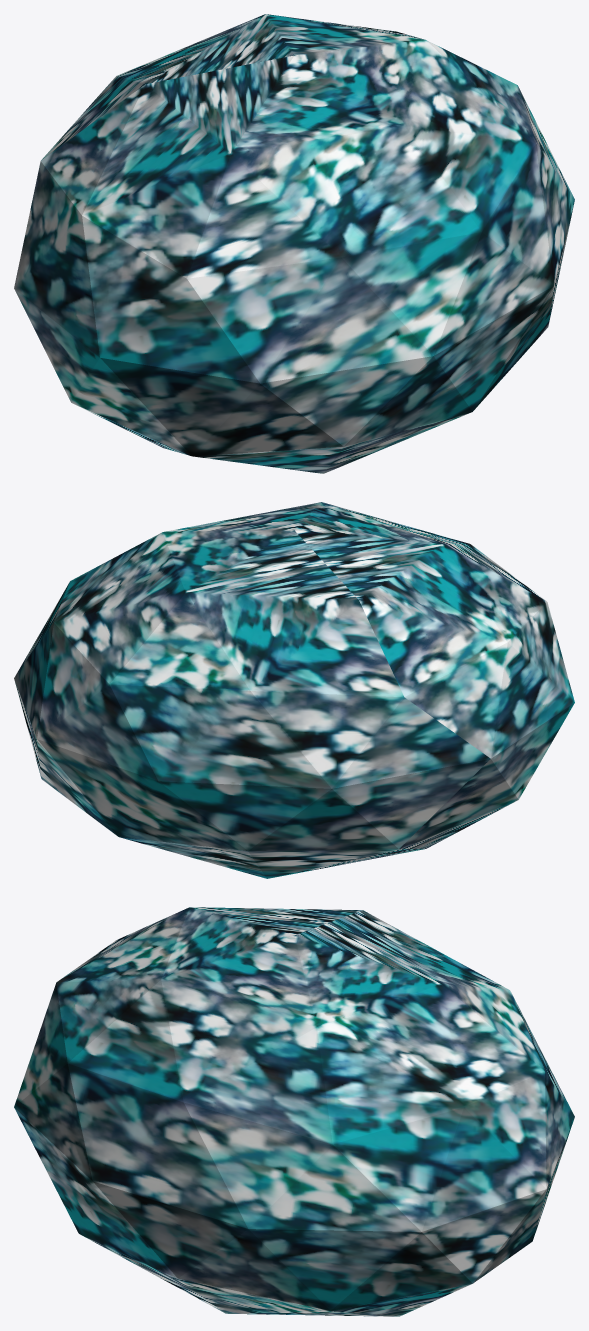
Rendered from Island_2_Tree_2_Leaf_3.gltf.
3 views of the same model, one above another, from view 1: azimuth 30°, elevation 25°; view 2: azimuth 150°, elevation 25°; view 3: azimuth 270°, elevation 25° (orthographic). The views are drawn at different scales.
Visible parts, largest first — view 1: Island_2_Tree_2_Leaf_3; view 2: Island_2_Tree_2_Leaf_3; view 3: Island_2_Tree_2_Leaf_3.
Boxes of the visible parts, bbox=[...] form: Island_2_Tree_2_Leaf_3: bbox=[14, 14, 574, 473]; Island_2_Tree_2_Leaf_3: bbox=[14, 502, 574, 878]; Island_2_Tree_2_Leaf_3: bbox=[14, 907, 574, 1316].
Size of the model in its own units: 0.3975 by 0.2729 by 0.3927.
1 material, 1 textured.
